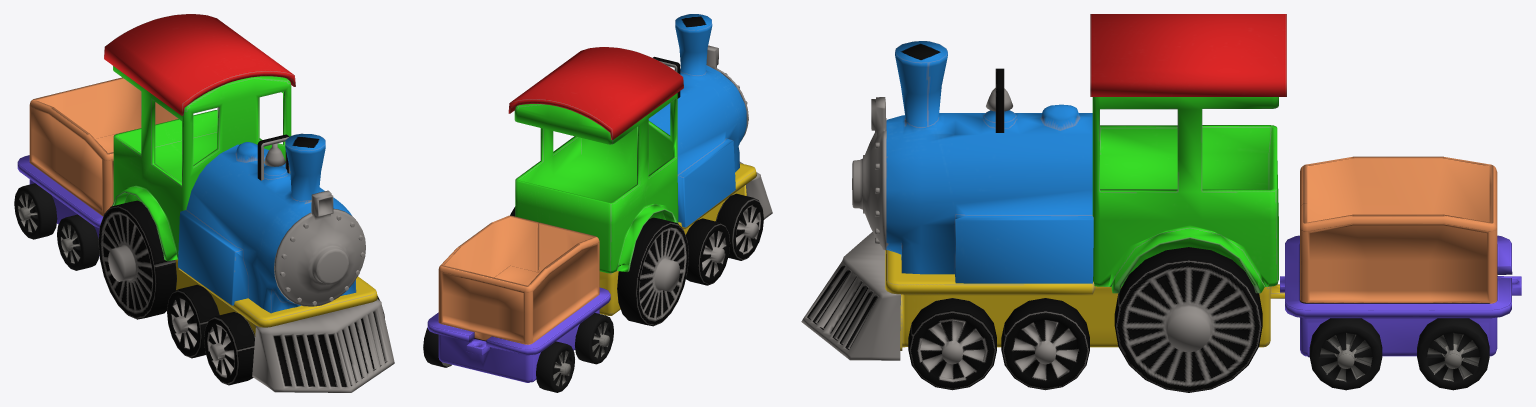
Rendered from toy_train_textured.glb.
The picture shows the model from 3 angles, left to right: view 1: azimuth 30°, elevation 25°; view 2: azimuth 150°, elevation 25°; view 3: azimuth 270°, elevation 25°; orthographic projection. The views are drawn at different scales.
Parts seen in each view (by area): view 1: Object_2, Object_4, Object_3; view 2: Object_2, Object_4, Object_3; view 3: Object_2, Object_4, Object_3.
Boxes of the visible parts, box(x1,y1,x2,y2) form: Object_2: box(98, 47, 394, 392); Object_4: box(14, 77, 177, 270); Object_3: box(105, 14, 377, 327); Object_2: box(508, 14, 772, 326); Object_4: box(423, 215, 613, 392); Object_3: box(509, 47, 756, 228); Object_2: box(801, 41, 1286, 392); Object_4: box(1280, 156, 1521, 390); Object_3: box(885, 14, 1286, 298).
Size of the model in its own units: 0.0827 by 0.1173 by 0.2409.
Materials: 2 (2 with a texture image).
